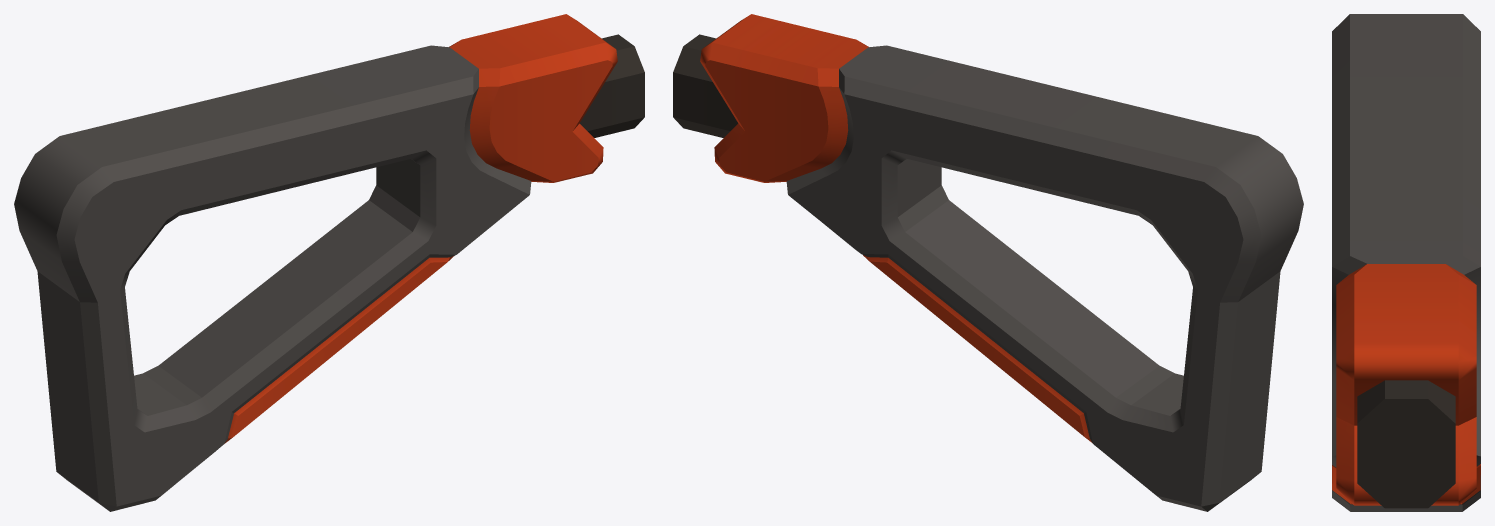
File: AR3_ButtstockLight.fbx
The picture shows the model from 3 angles, left to right: view 1: azimuth 30°, elevation 25°; view 2: azimuth 150°, elevation 25°; view 3: azimuth 270°, elevation 25°; orthographic projection. The views are drawn at different scales.
Parts seen in each view (by area): view 1: AR3_ButtstockLight; view 2: AR3_ButtstockLight; view 3: AR3_ButtstockLight.
Part boxes in pixels (left/top/right/bottom): AR3_ButtstockLight: left=14, top=14, right=644, bottom=511; AR3_ButtstockLight: left=673, top=14, right=1303, bottom=511; AR3_ButtstockLight: left=1332, top=14, right=1480, bottom=511.
Bounding box in the file's own units: 24.99 × 14 × 4.08.
